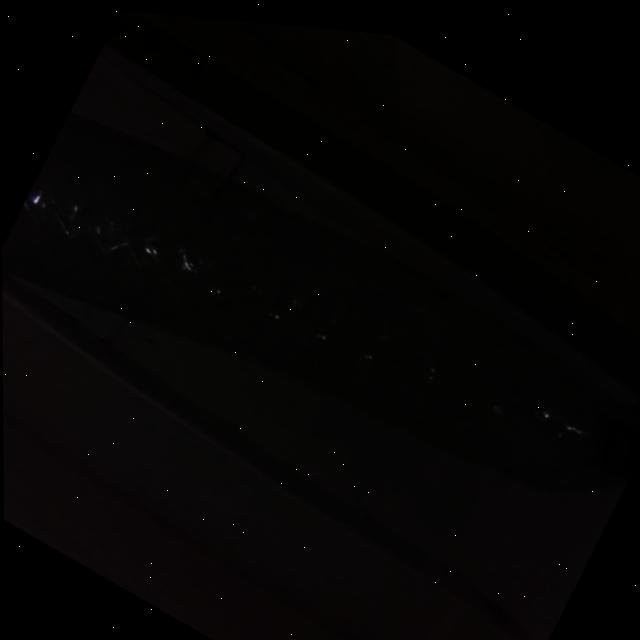sise: (0, 52, 640, 608)
